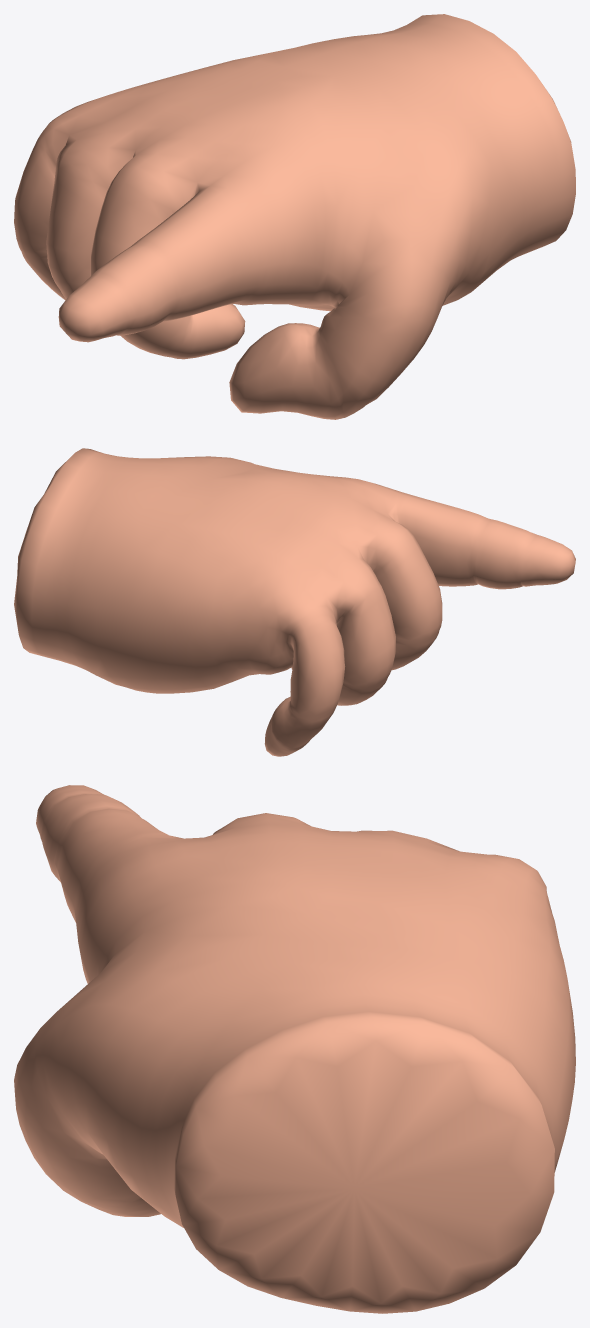
File: finger.FBX
3 renders of one model, top to bottom at view 1: azimuth 30°, elevation 25°; view 2: azimuth 150°, elevation 25°; view 3: azimuth 270°, elevation 25°, orthographic. The views are drawn at different scales.
Visible parts, largest first — view 1: R_arm_geo; view 2: R_arm_geo; view 3: R_arm_geo.
Boxes of the visible parts, x1=… form: R_arm_geo: x1=14, y1=14, x2=575, y2=419; R_arm_geo: x1=14, y1=448, x2=575, y2=756; R_arm_geo: x1=14, y1=785, x2=575, y2=1313.
Bounding box in the file's own units: 151 × 72.64 × 101.
